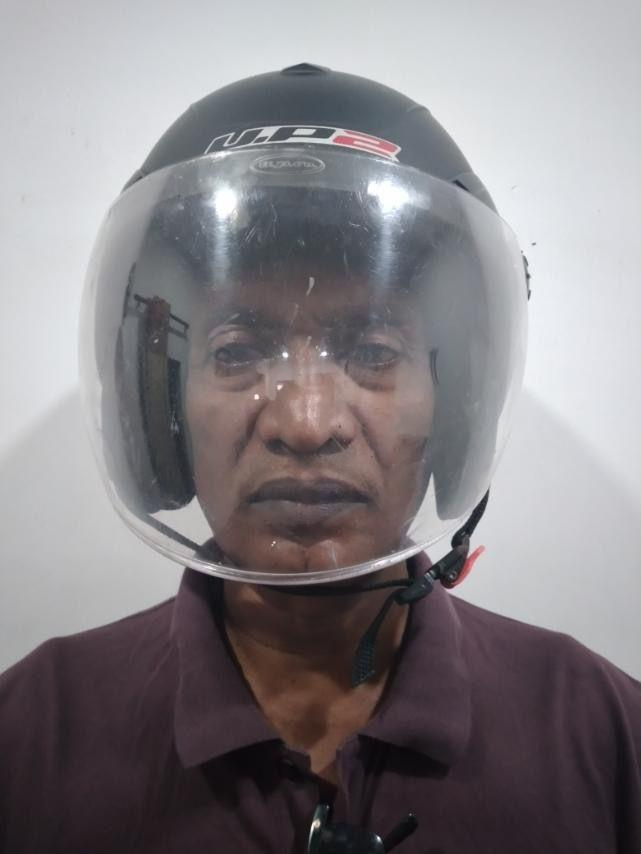helmet: (77, 59, 527, 590)
